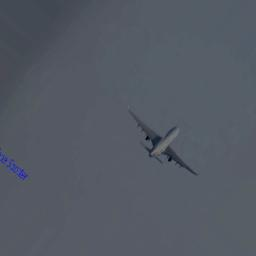Airplane: (127, 106, 202, 177)
